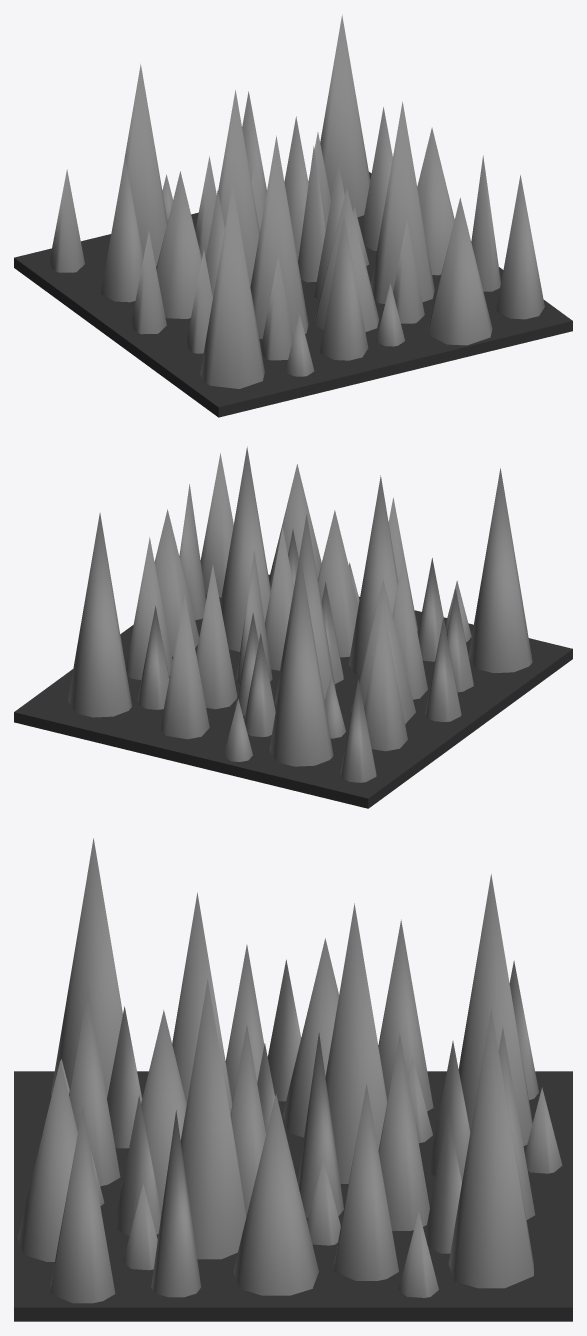
File: Spike Pit 04.fbx
The picture shows the model from 3 angles, top to bottom: view 1: azimuth 30°, elevation 25°; view 2: azimuth 150°, elevation 25°; view 3: azimuth 270°, elevation 25°; orthographic projection. The views are drawn at different scales.
Visible parts, largest first — view 1: pCone38; view 2: pCone38; view 3: pCone38.
Part boxes in pixels (<box>): pCone38: <box>14,14,572,417</box>; pCone38: <box>14,446,572,808</box>; pCone38: <box>14,838,572,1321</box>.
Size of the model in its own units: 5 by 2.73 by 5.
Materials: 1 (1 with a texture image).
